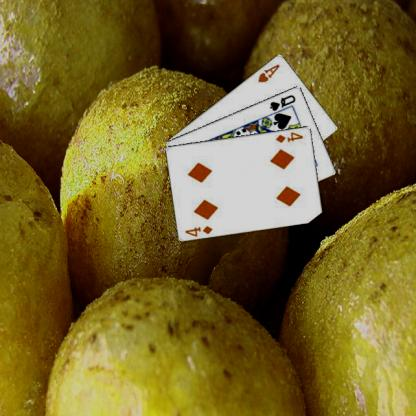4D: (274, 129, 304, 144), (183, 223, 214, 237)
AH: (255, 61, 281, 83)
QS: (267, 92, 297, 112)
